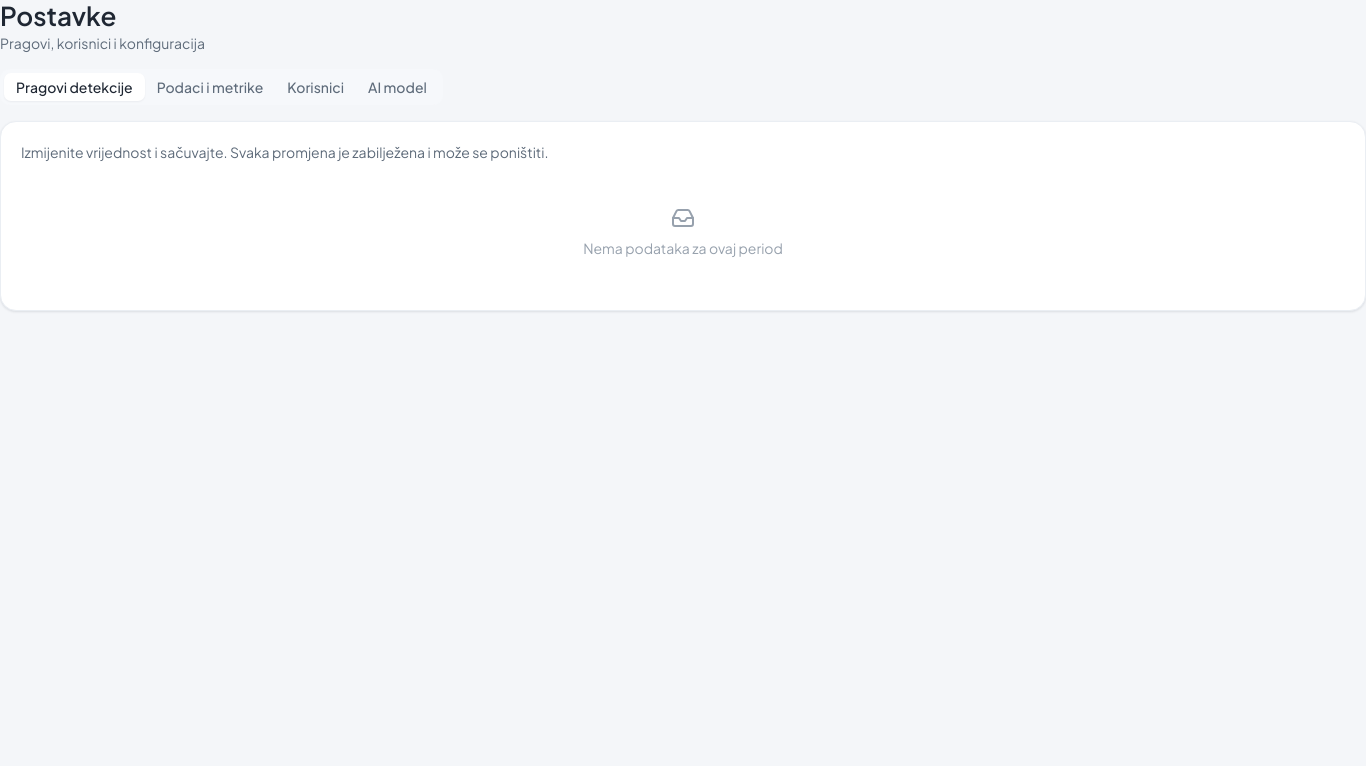
Test: Settings → AI model (M12) › renders tiers, role routing, escalation and the masking lock
Click the tab "AI model": point(397, 86) [356,72,439,100]
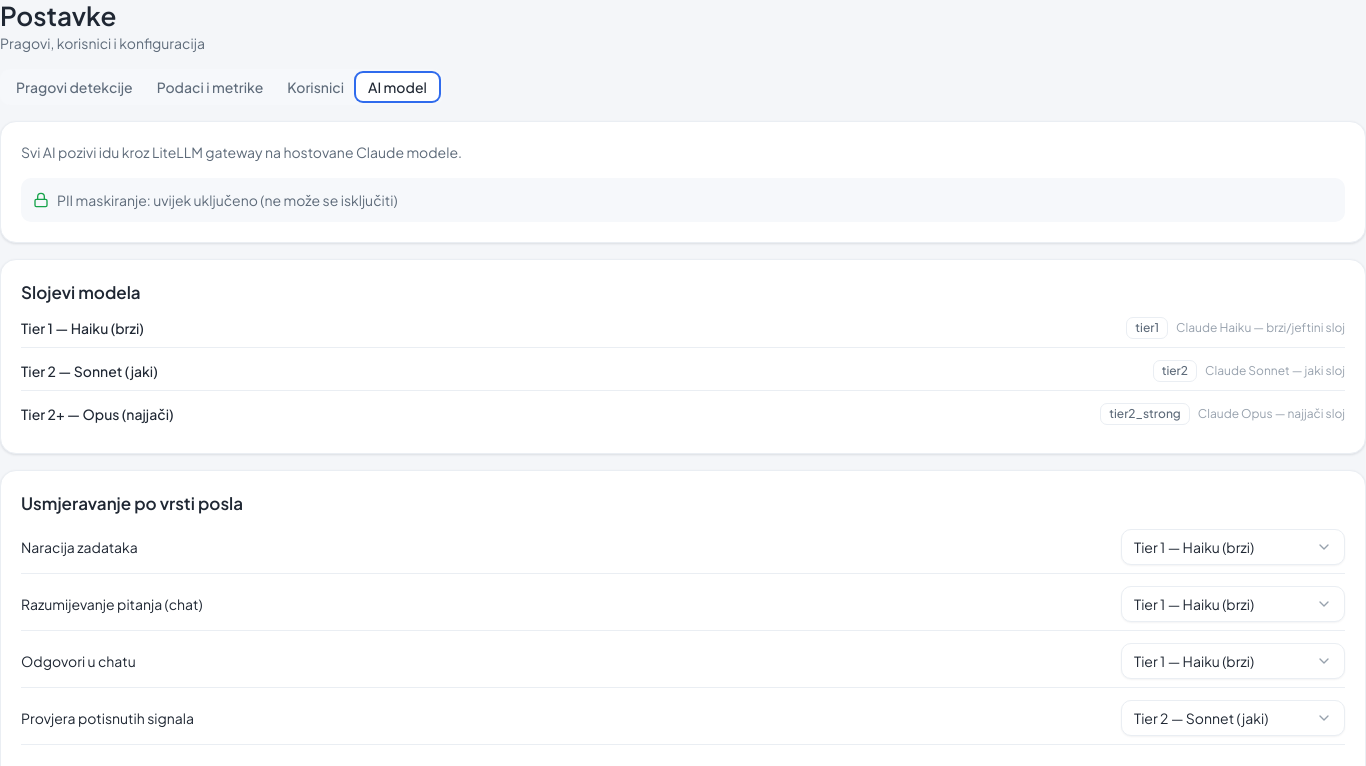
Check: the element with test id "llm-tiers" is shown, box [0,258,1365,454]
Check: the element with test id "llm-tiers" shows "Tier 1 — Haiku (brzi)", box [21,319,144,337]
Check: the element with test id "llm-tiers" shows "Tier 2 — Sonnet (jaki)", box [21,362,158,380]
